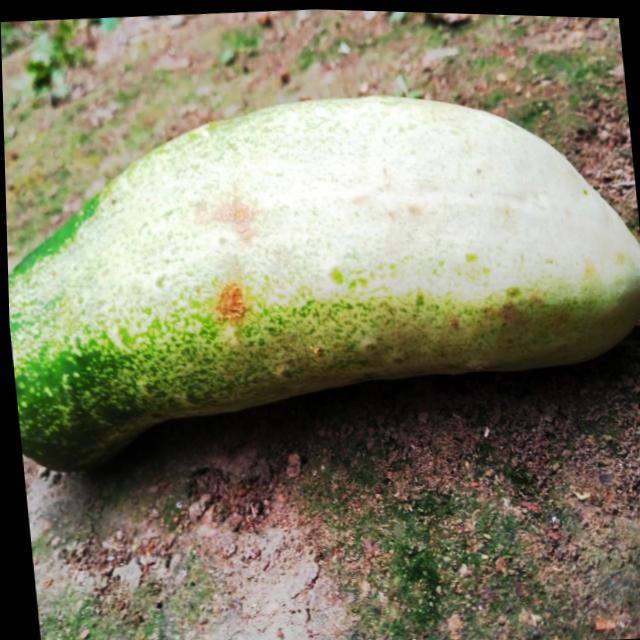Belly-Rot: (189, 172, 273, 344)
